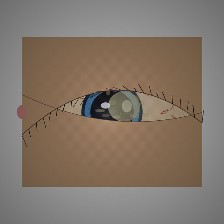corneal_ulcer: (98, 86, 150, 127)
